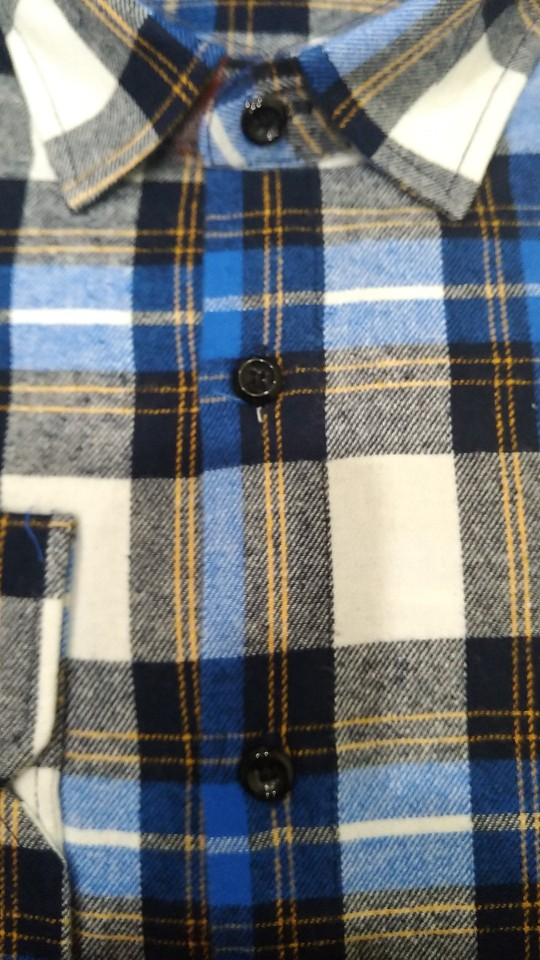shirts: (2, 1, 540, 935)
